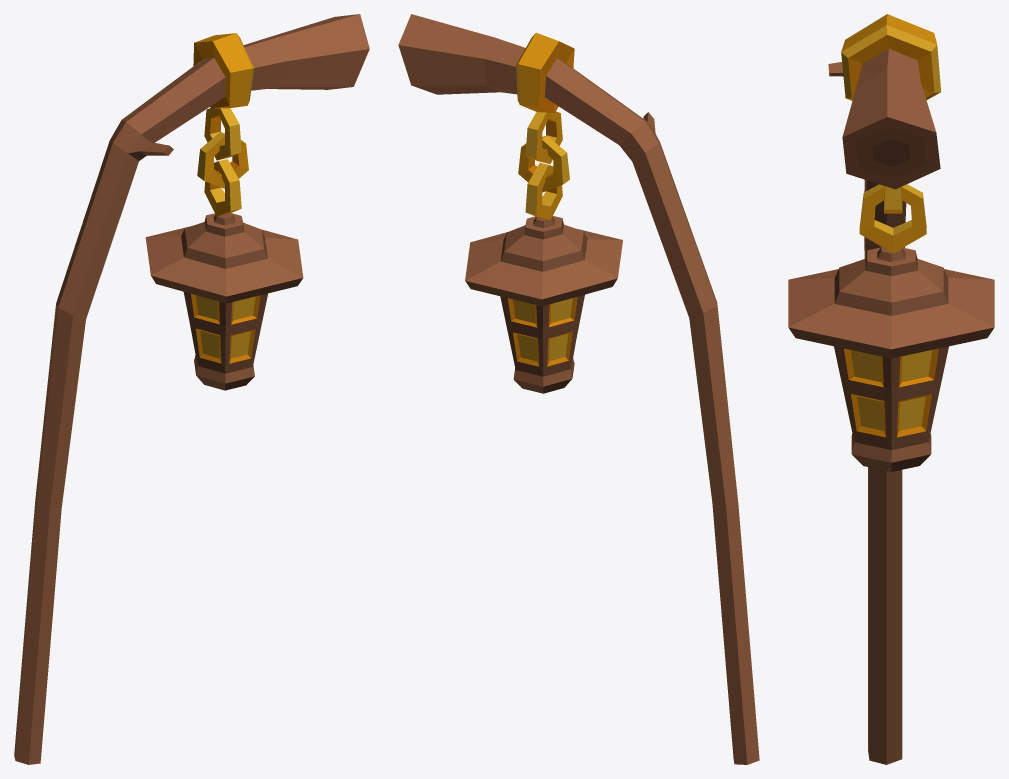
File: Prop_Lantern_Pole.fbx
3 renders of one model, left to right at view 1: azimuth 30°, elevation 25°; view 2: azimuth 150°, elevation 25°; view 3: azimuth 270°, elevation 25°, orthographic. The views are drawn at different scales.
Visible parts, largest first — view 1: Model_Ship_Lantern; view 2: Model_Ship_Lantern; view 3: Model_Ship_Lantern.
Boxes of the visible parts, x1=… form: Model_Ship_Lantern: x1=14, y1=14, x2=369, y2=764; Model_Ship_Lantern: x1=398, y1=14, x2=759, y2=764; Model_Ship_Lantern: x1=788, y1=14, x2=994, y2=764.
Bounding box in the file's own units: 2045 × 3821 × 829.
